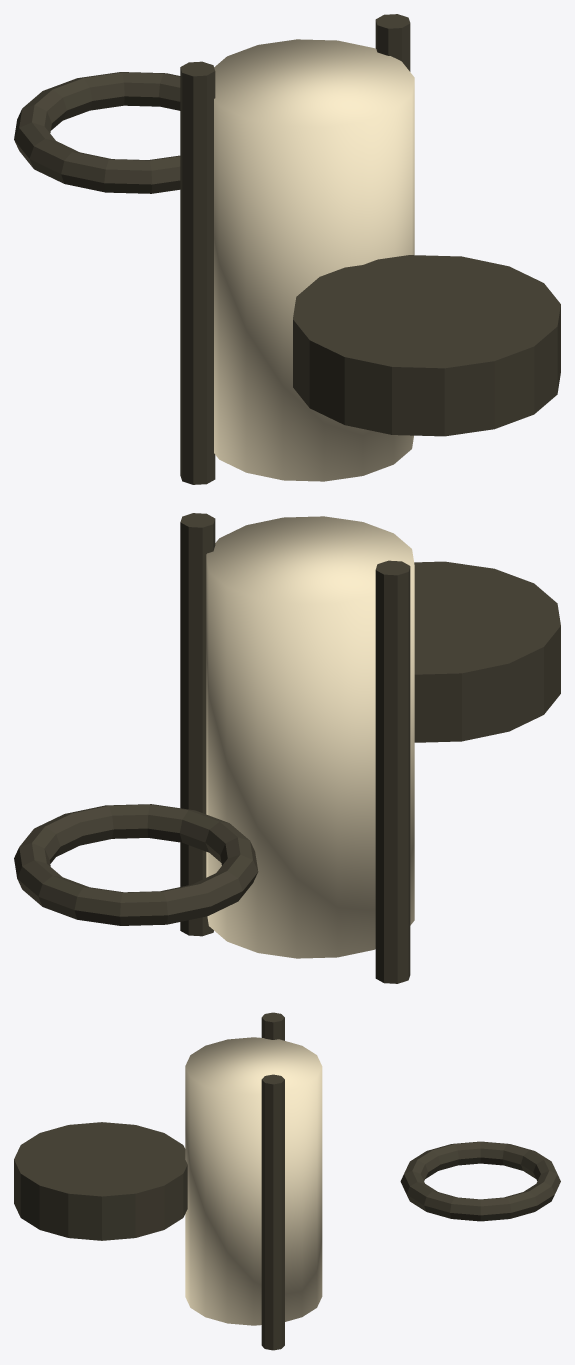
Rendered from lantern.glb.
3 renders of one model, top to bottom at view 1: azimuth 30°, elevation 25°; view 2: azimuth 150°, elevation 25°; view 3: azimuth 270°, elevation 25°, orthographic. The views are drawn at different scales.
Parts seen in each view (by area): view 1: Lantern_Glass, Lantern_Body, Lantern_Handle; view 2: Lantern_Glass, Lantern_Body, Lantern_Handle; view 3: Lantern_Glass, Lantern_Body, Lantern_Handle.
Part boxes in pixels (left/top/right/bottom): Lantern_Glass: left=214, top=39, right=414, bottom=481; Lantern_Body: left=180, top=14, right=560, bottom=484; Lantern_Handle: left=14, top=72, right=180, bottom=193; Lantern_Glass: left=206, top=516, right=414, bottom=958; Lantern_Body: left=180, top=513, right=560, bottom=983; Lantern_Handle: left=14, top=804, right=258, bottom=925; Lantern_Glass: left=185, top=1037, right=322, bottom=1325; Lantern_Body: left=14, top=1012, right=284, bottom=1350; Lantern_Handle: left=400, top=1141, right=560, bottom=1221.
Bounding box in the file's own units: 0.18 × 0.3 × 0.559.
